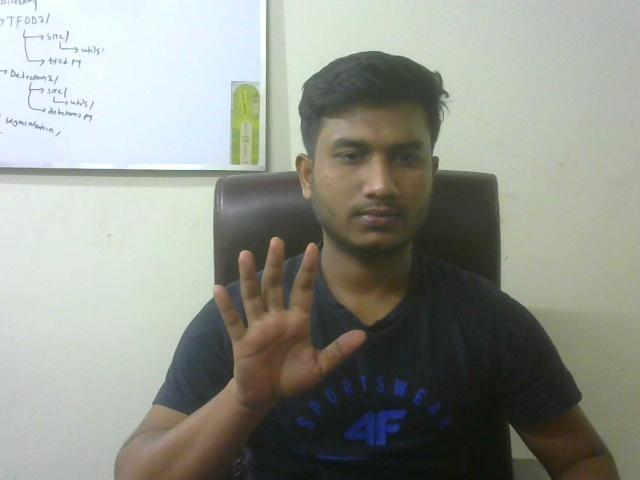Hello: (198, 240, 373, 412)
